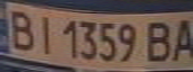1: (57, 16, 81, 58)
3: (75, 17, 100, 61)
5: (96, 19, 121, 63)
9: (115, 19, 145, 64)
A: (169, 15, 193, 63)
B: (3, 6, 39, 52), (142, 17, 178, 63)
I: (30, 11, 60, 55)
